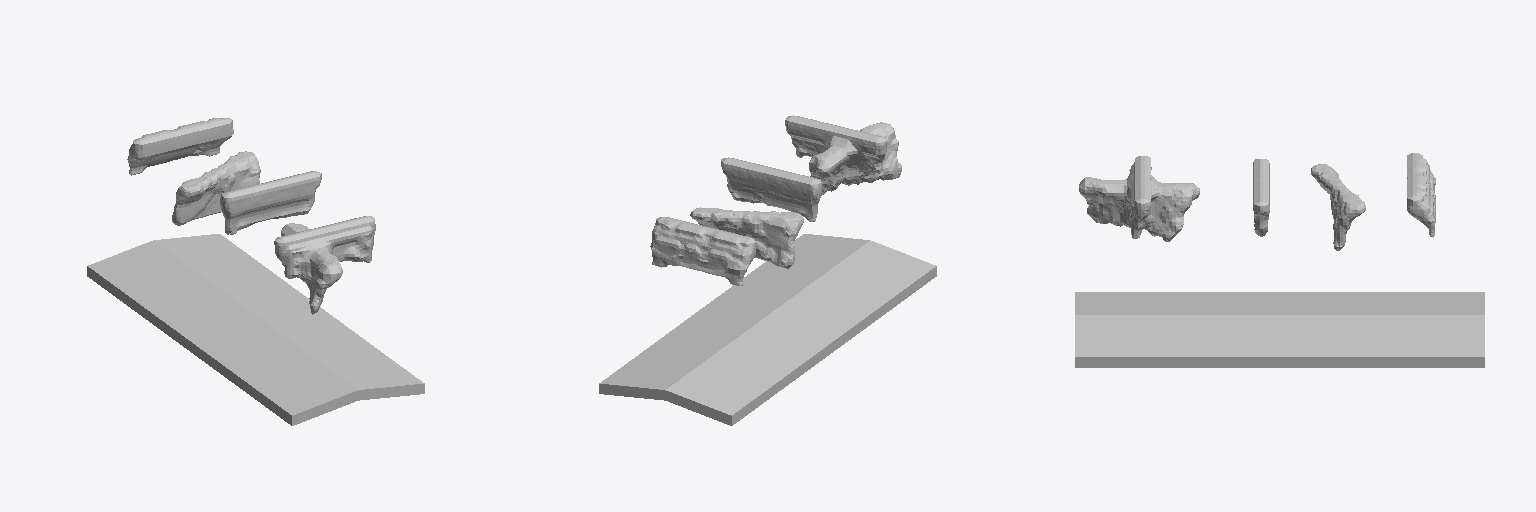
File: Watersim_000010.obj
The picture shows the model from 3 angles: view 1: azimuth 30°, elevation 25°; view 2: azimuth 150°, elevation 25°; view 3: azimuth 270°, elevation 25°; orthographic projection.
Parts seen in each view (by area): view 1: Straße_Cube.007, Domain_Cube.006; view 2: Straße_Cube.007, Domain_Cube.006; view 3: Straße_Cube.007, Domain_Cube.006.
Part boxes in pixels (x1,y1,x2,y2): Straße_Cube.007: (87, 234, 424, 425); Domain_Cube.006: (127, 118, 375, 314); Straße_Cube.007: (599, 234, 936, 425); Domain_Cube.006: (650, 115, 901, 285); Straße_Cube.007: (1075, 292, 1484, 367); Domain_Cube.006: (1079, 153, 1435, 250).
Bounding box in the file's own units: 2.26 × 2.59 × 6.06.